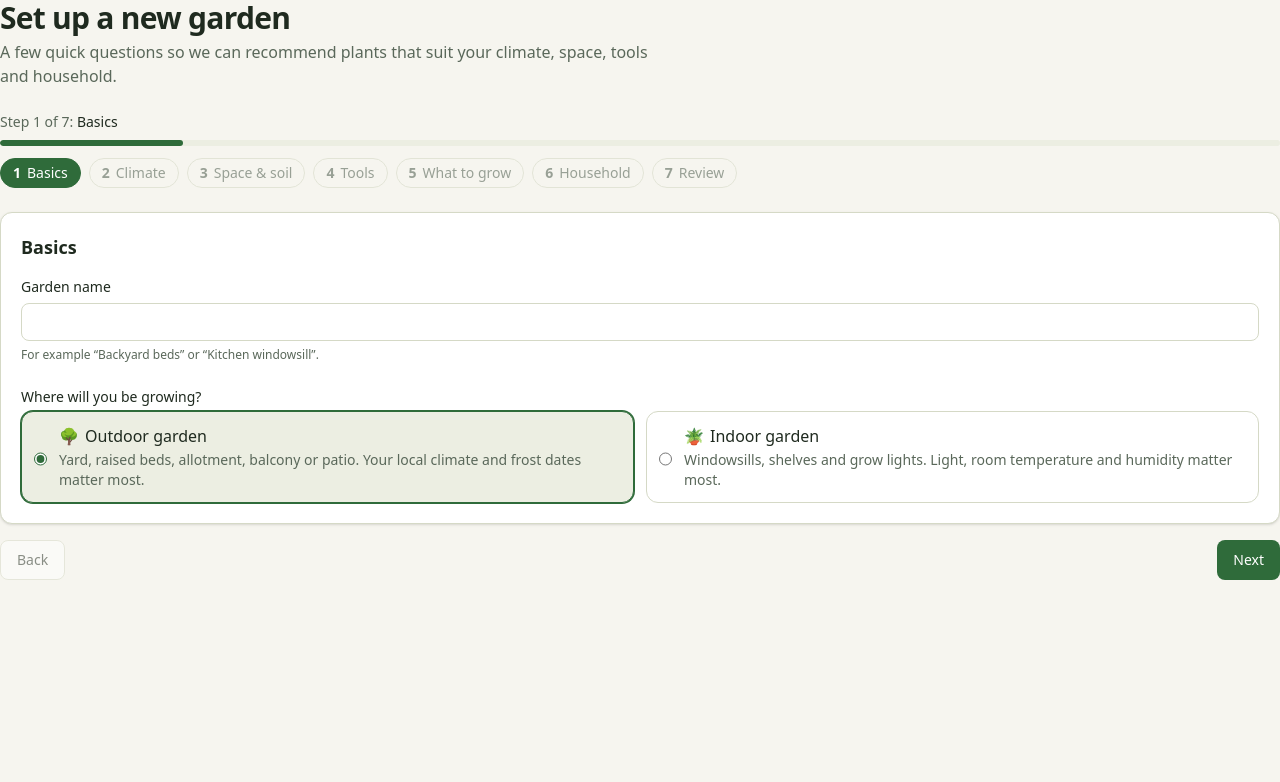
Test: SetupWizard (new garden) › blocks Next until the garden has a name
Expected: the field labelled "Garden name" is shown, x1=21 y1=303 x2=1259 y2=341
Click the button "Next" at (1249, 560), box x1=1217 y1=540 x2=1279 y2=580
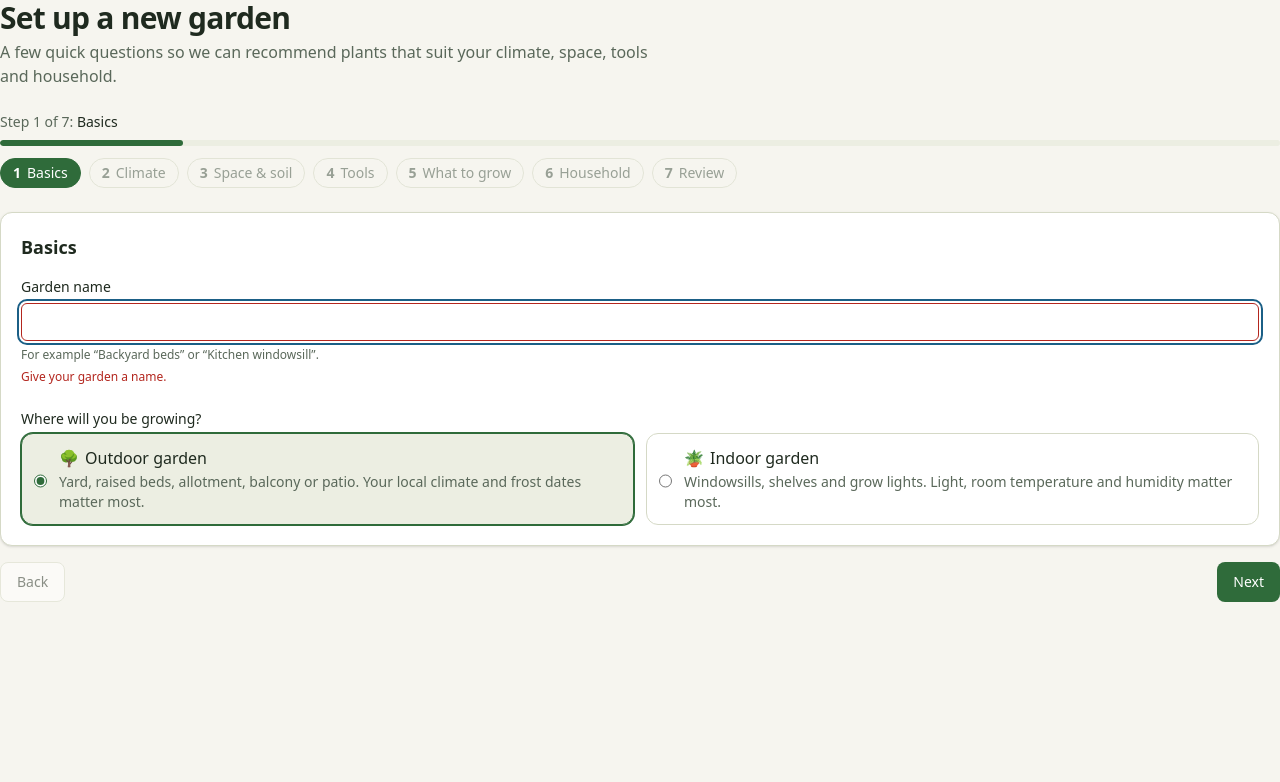
Expected: the text "Step 1 of 7: Basics" is shown, x1=0 y1=112 x2=118 y2=131
Expected: the message shows "name", x1=21 y1=368 x2=166 y2=385
Type "Patio" into the field labelled "Garden name" at (640, 322), box x1=21 y1=303 x2=1259 y2=341
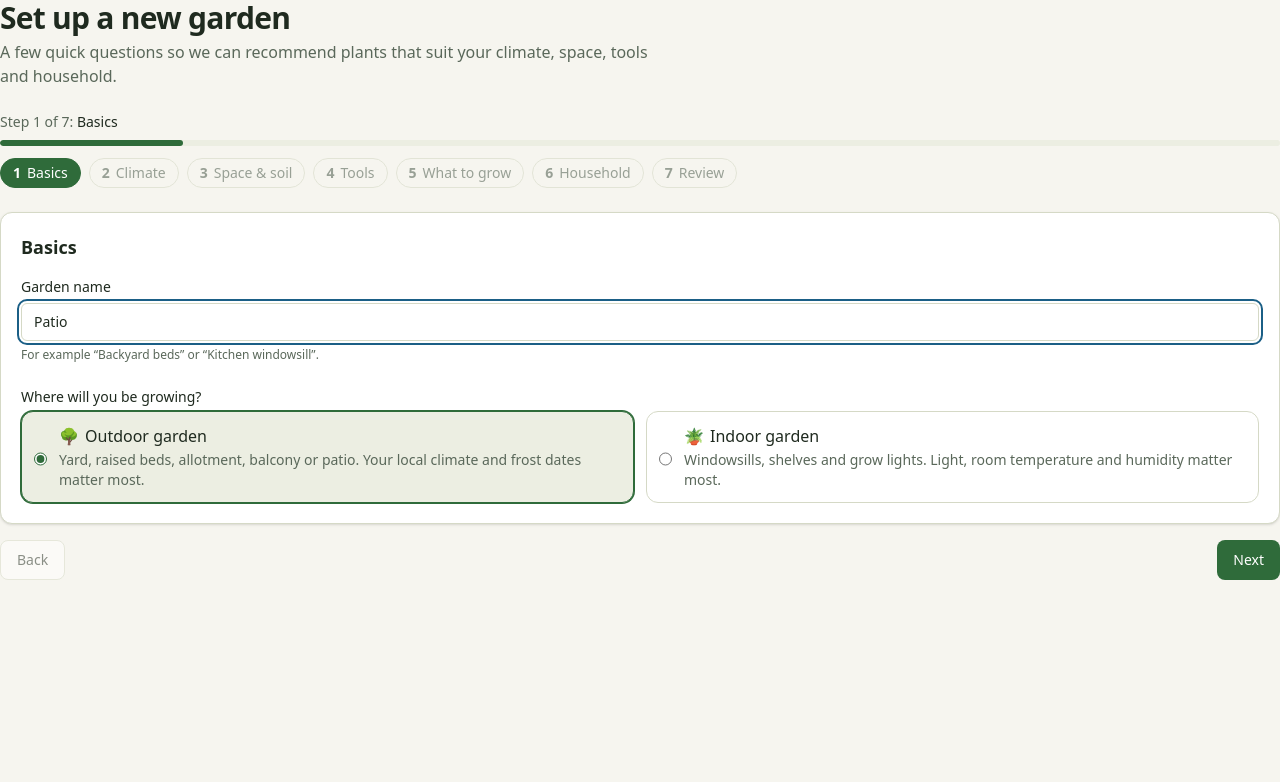
Click the button "Next" at (1249, 560), box x1=1217 y1=540 x2=1279 y2=580
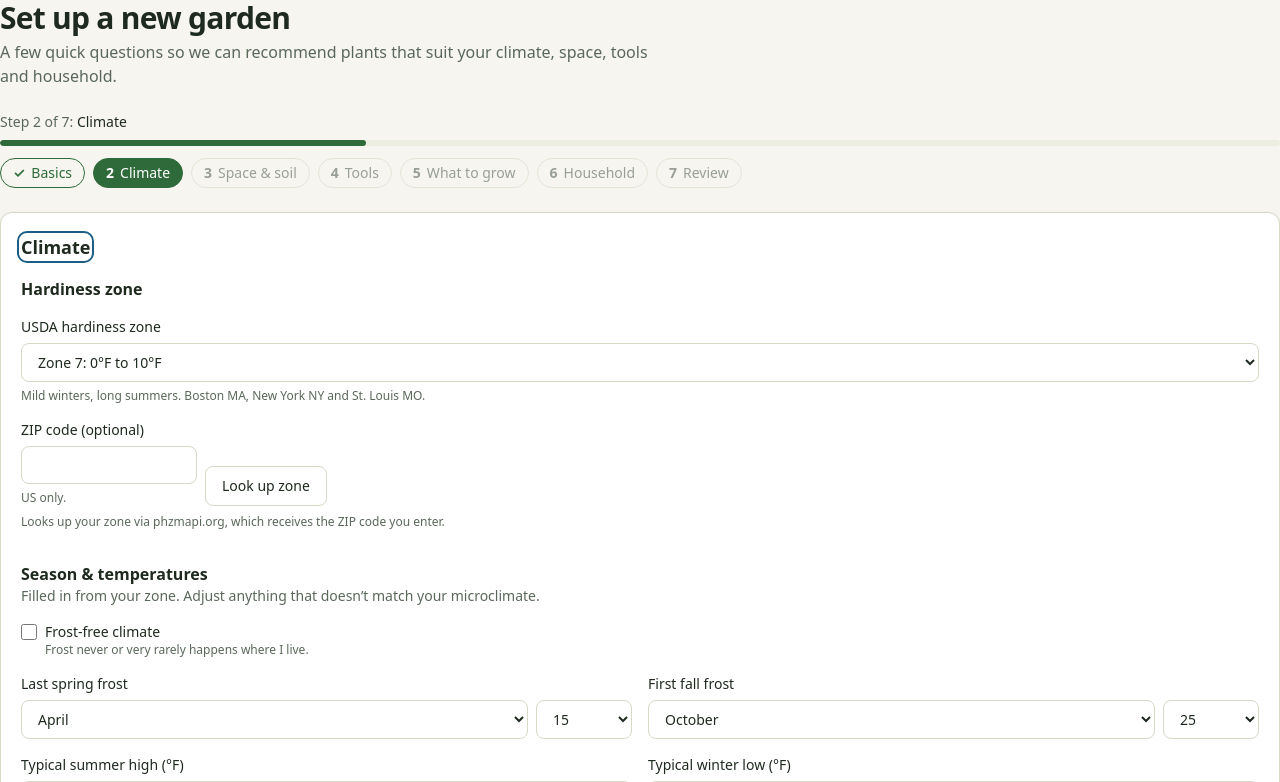
Expected: the text "Step 2 of 7: Climate" is shown, x1=0 y1=112 x2=127 y2=131
